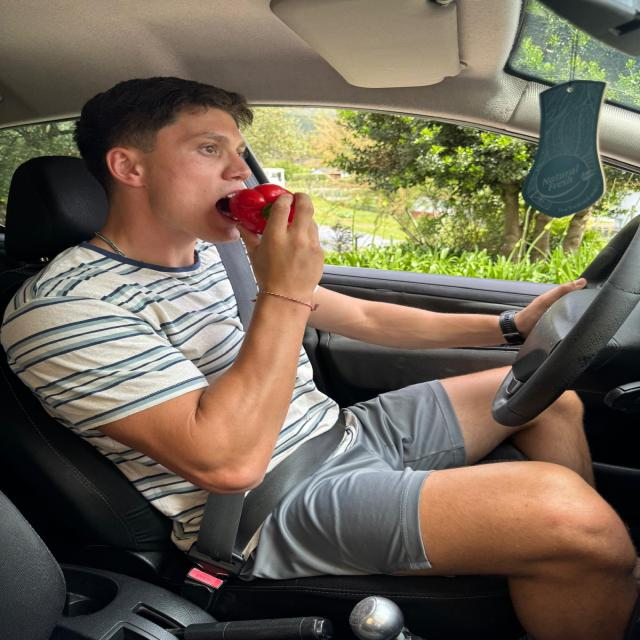Eating: (221, 179, 322, 254)
Seatbelt: (178, 158, 381, 607)
